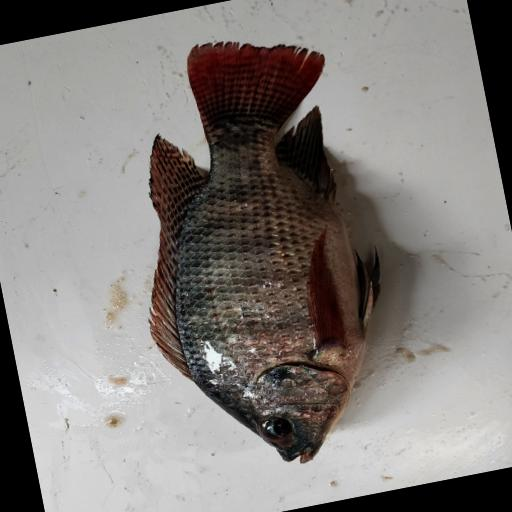Tilapia: (98, 18, 415, 487)
